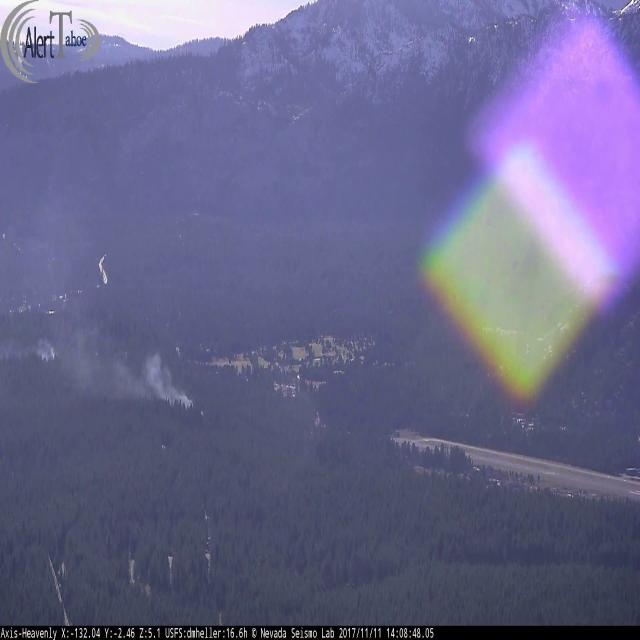smoke: (0, 188, 194, 412)
